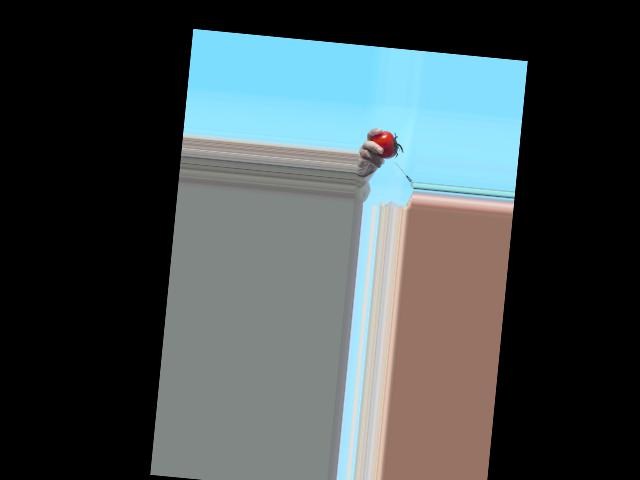tomato: (369, 129, 398, 159)
